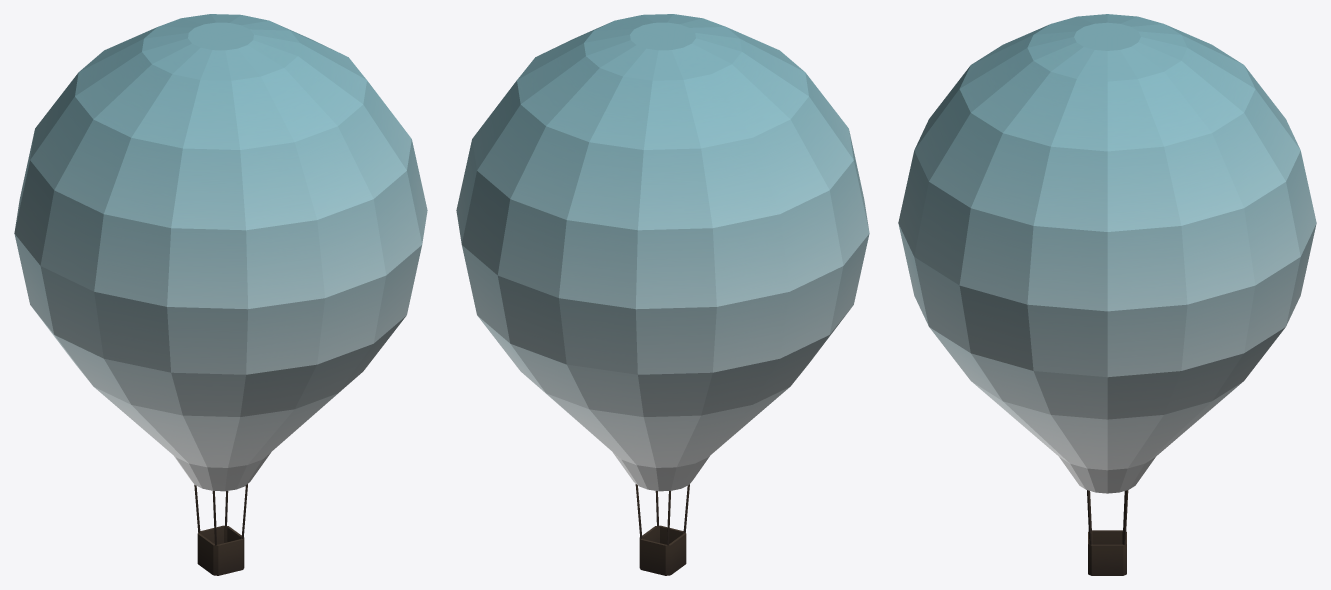
File: prop_baloon_C.FBX
3 renders of one model, left to right at view 1: azimuth 30°, elevation 25°; view 2: azimuth 150°, elevation 25°; view 3: azimuth 270°, elevation 25°, orthographic.
Visible parts, largest first — view 1: prop_baloon_C; view 2: prop_baloon_C; view 3: prop_baloon_C.
Part boxes in pixels (left/top/right/bottom): prop_baloon_C: left=14, top=14, right=427, bottom=575; prop_baloon_C: left=456, top=14, right=869, bottom=575; prop_baloon_C: left=898, top=14, right=1316, bottom=575.
Size of the model in its own units: 591 by 828 by 591.
1 material, 1 textured.
